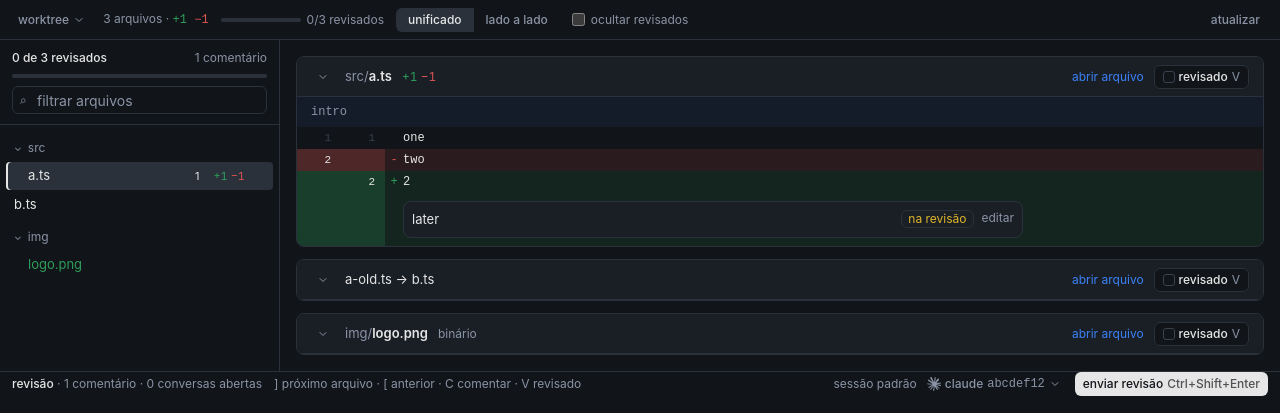
Test: enviar revisão is off while its submit is in flight, and ⌃⇧↵ then sends nothing more (#591)
Expected: the text "na revisão" is shown, 901,210 -> 974,228
Click the button "enviar revisão Ctrl+Shift+Enter": click(1171, 384) 1075,372 -> 1268,396
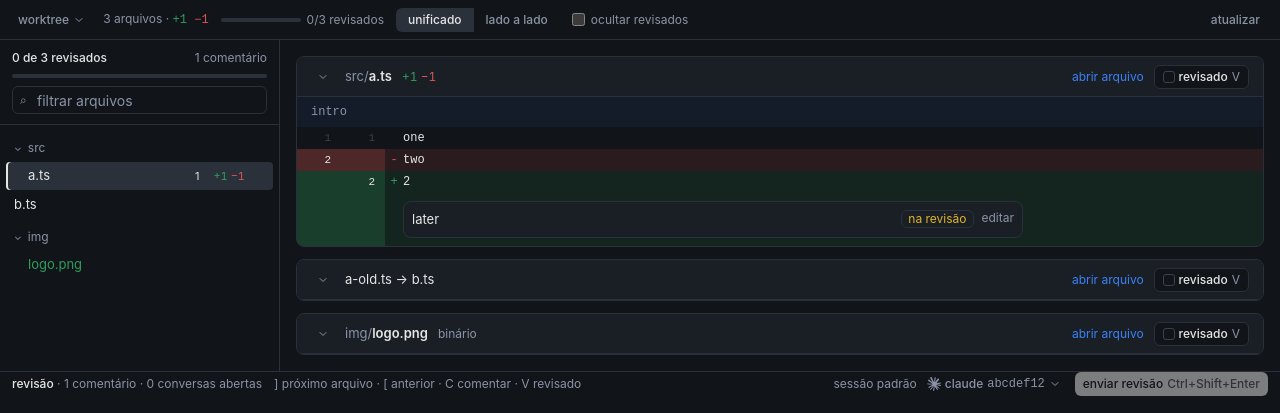
Expected: the button "enviar revisão Ctrl+Shift+Enter" is disabled, 1075,372 -> 1268,396
Type keys "{Control>}{Shift>}{Enter}{/Shift}{/Control}"
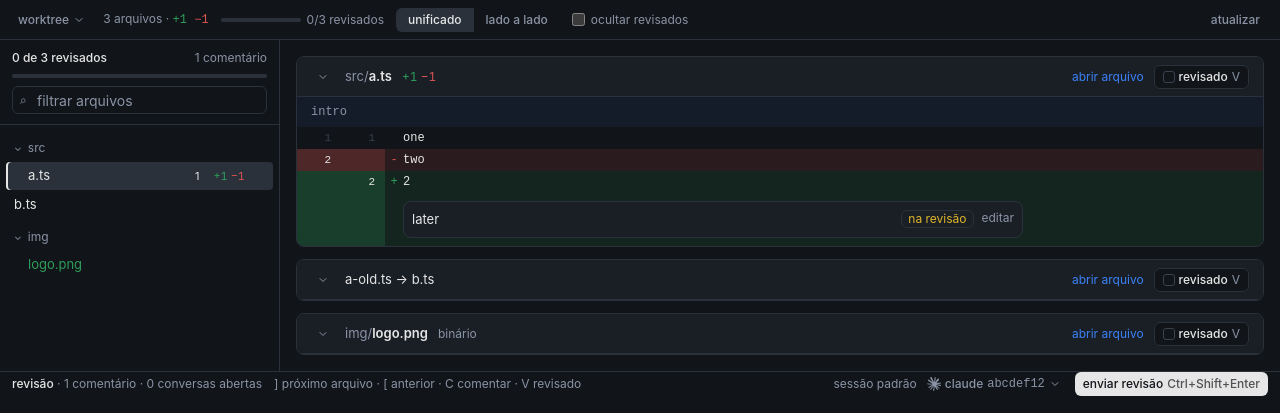
Expected: the button "enviar revisão Ctrl+Shift+Enter" is enabled, 1075,372 -> 1268,396
